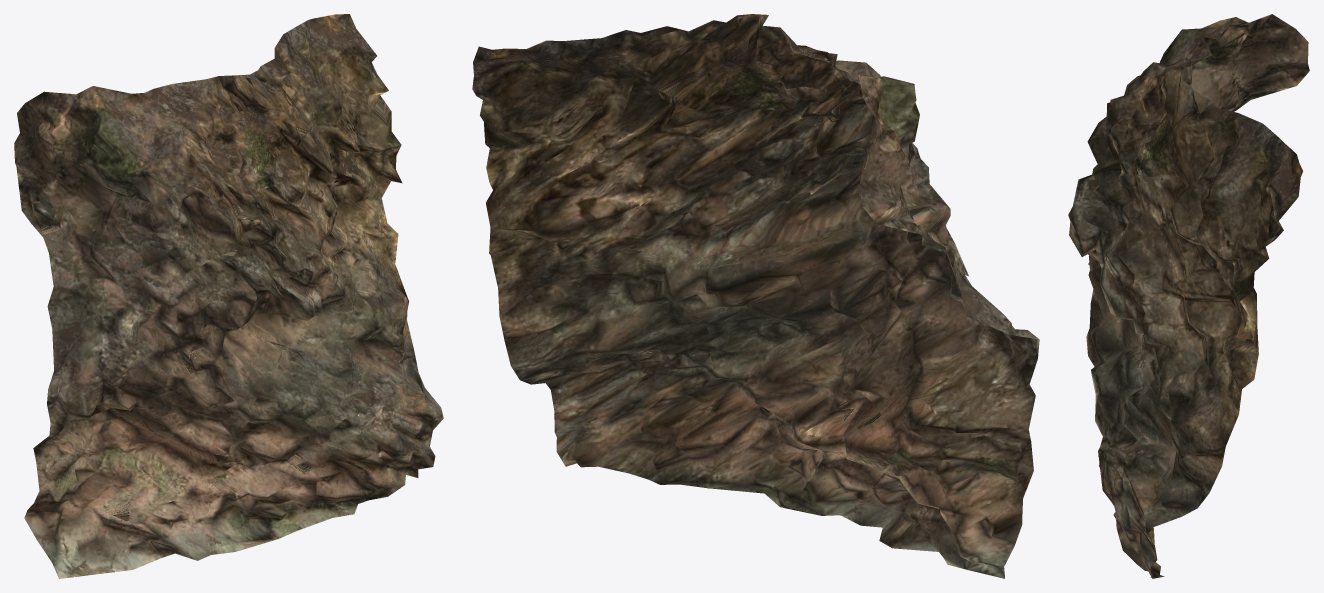
The model's file is suon-nui.glb.
The picture shows the model from 3 angles, left to right: view 1: azimuth 30°, elevation 25°; view 2: azimuth 150°, elevation 25°; view 3: azimuth 270°, elevation 25°; orthographic projection. The views are drawn at different scales.
Parts seen in each view (by area): view 1: mountainside; view 2: mountainside; view 3: mountainside.
Part boxes in pixels (x1,y1,x2,y2): mountainside: [14, 14, 443, 578]; mountainside: [472, 14, 1039, 578]; mountainside: [1068, 14, 1309, 578].
Bounding box in the file's own units: 0.9684 × 0.9944 × 0.4951.
1 material, 1 textured.
